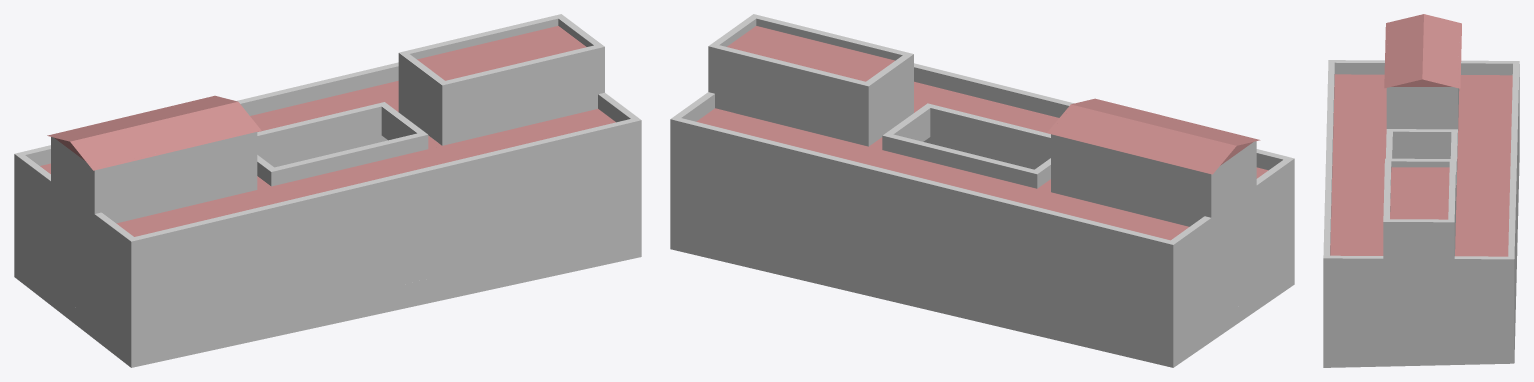
The model's file is LOD_Block_0_79.glb.
The picture shows the model from 3 angles, left to right: view 1: azimuth 30°, elevation 25°; view 2: azimuth 150°, elevation 25°; view 3: azimuth 270°, elevation 25°; orthographic projection. The views are drawn at different scales.
Parts seen in each view (by area): view 1: mesh_CityEngineMaterial_1186; view 2: mesh_CityEngineMaterial_1186; view 3: mesh_CityEngineMaterial_1186.
Part boxes in pixels (bbox=[...]): mesh_CityEngineMaterial_1186: bbox=[14, 14, 641, 367]; mesh_CityEngineMaterial_1186: bbox=[670, 14, 1294, 367]; mesh_CityEngineMaterial_1186: bbox=[1323, 14, 1519, 367].
Bounding box in the file's own units: 36.99 × 13.37 × 15.33.
